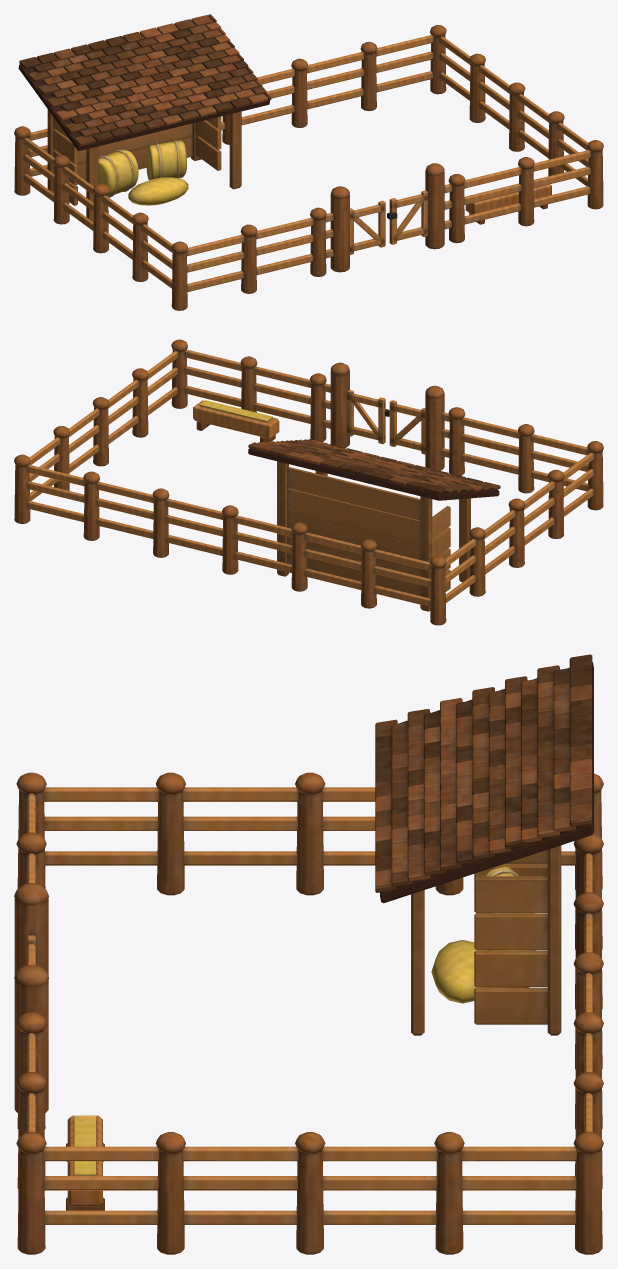
File: pasture.glb
The picture shows the model from 3 angles, top to bottom: view 1: azimuth 30°, elevation 25°; view 2: azimuth 150°, elevation 25°; view 3: azimuth 270°, elevation 25°; orthographic projection. The views are drawn at different scales.
Visible parts, largest first — view 1: pasture, gate1, gate0; view 2: pasture, gate1, gate0; view 3: pasture.
Boxes of the visible parts, x1,y1,x2,y2 form: pasture: [14, 14, 603, 310]; gate1: [387, 190, 428, 244]; gate0: [350, 200, 385, 254]; pasture: [14, 339, 603, 625]; gate1: [347, 389, 389, 444]; gate0: [389, 400, 425, 454]; pasture: [14, 654, 603, 1254].
Size of the model in its own units: 3 by 0.9343 by 2.01.
1 material, 1 textured.
